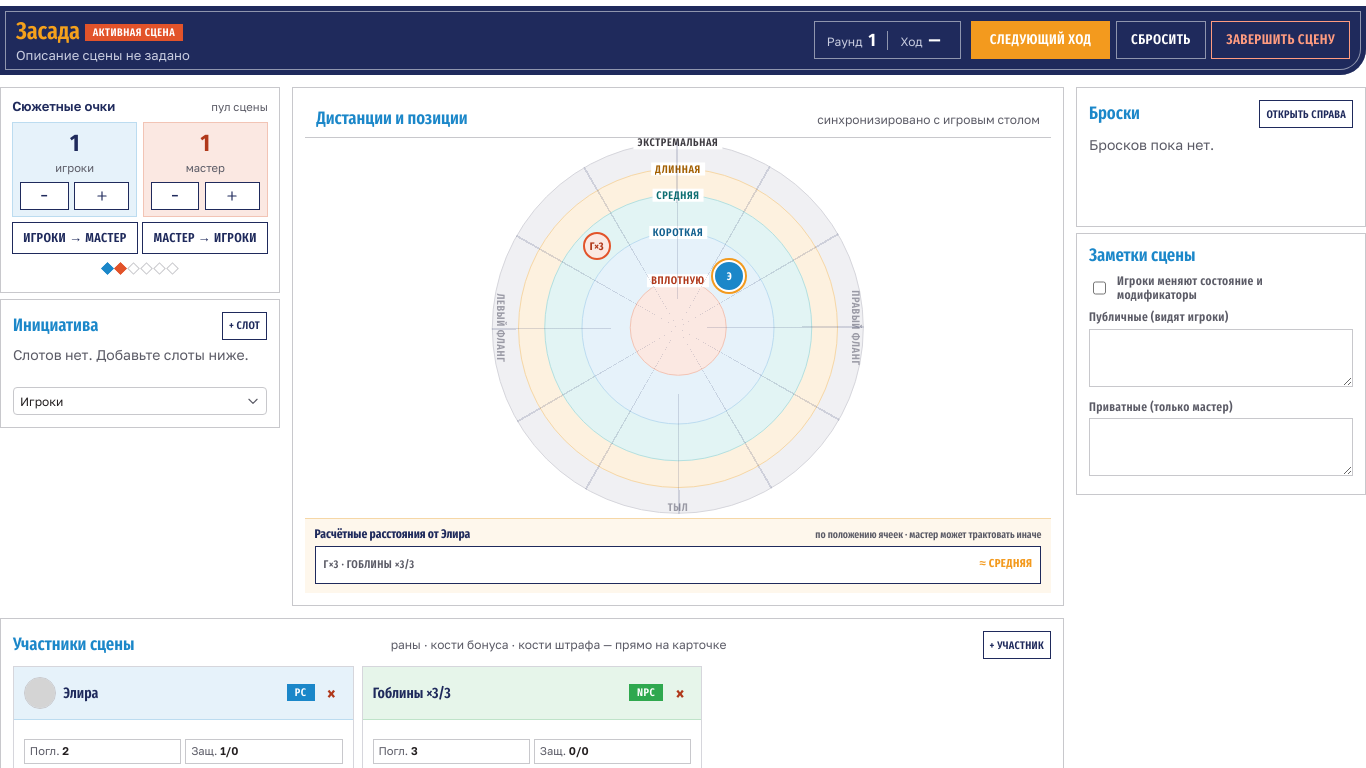
GameTableTab — статблок и броски NPC › показывает расстояния от выбранного участника, не переставляя токены
Expected: the text "Расчётные расстояния от Элира" is shown, [315,526,470,541]
Expected: the text "≈ Средняя" is shown, [979,558,1032,571]
What coordinates should you click on to do the following:
click the button named "Выбрать Гоблины ×3/3 для расчёта расстояний"
I would click on:
 (597, 246)
Its box is [583,232,611,260].
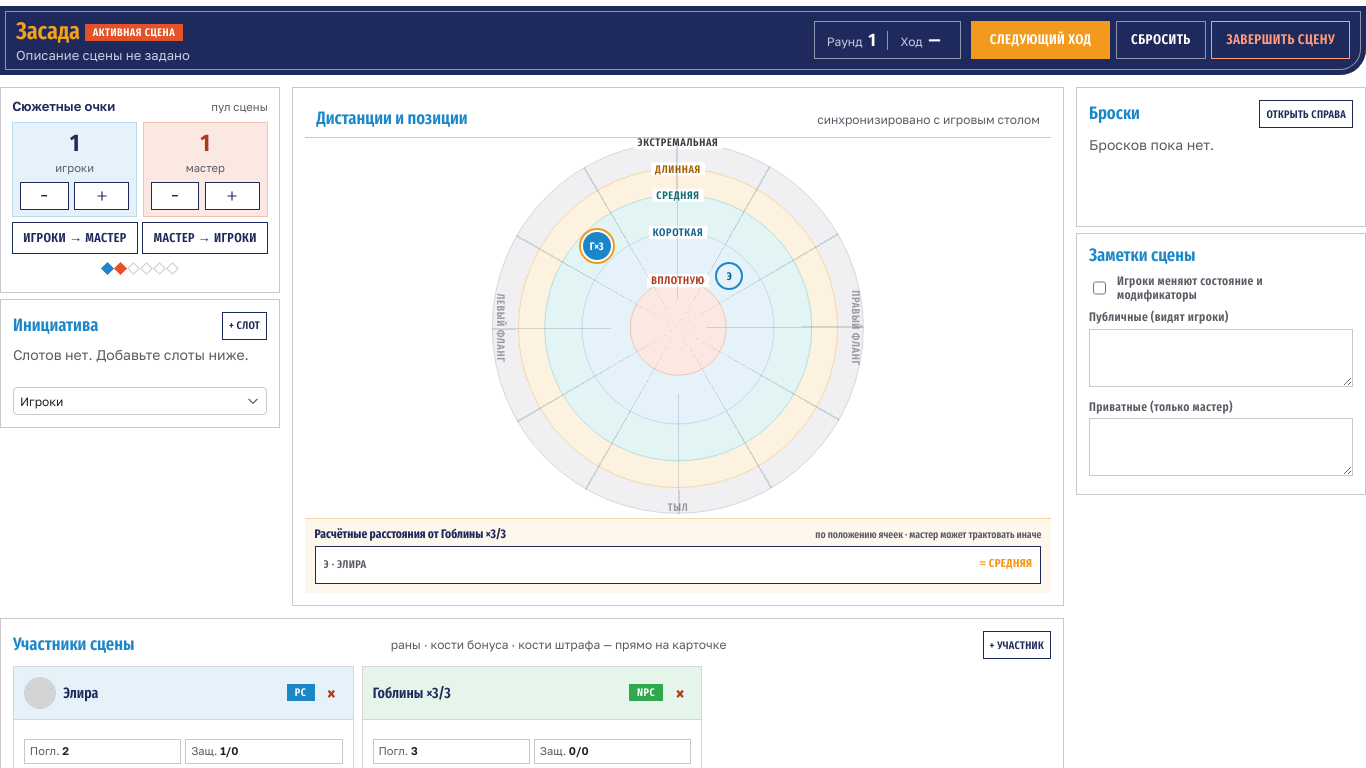
Now the text "Расчётные расстояния от Гоблины ×3/3" is shown, box [315,526,506,541]
